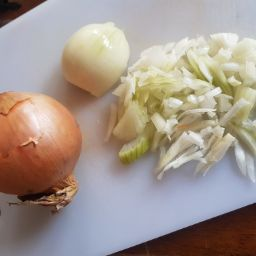Finely chopped onions: (111, 36, 256, 200), (150, 29, 256, 191), (1, 82, 82, 218), (45, 14, 131, 99)
